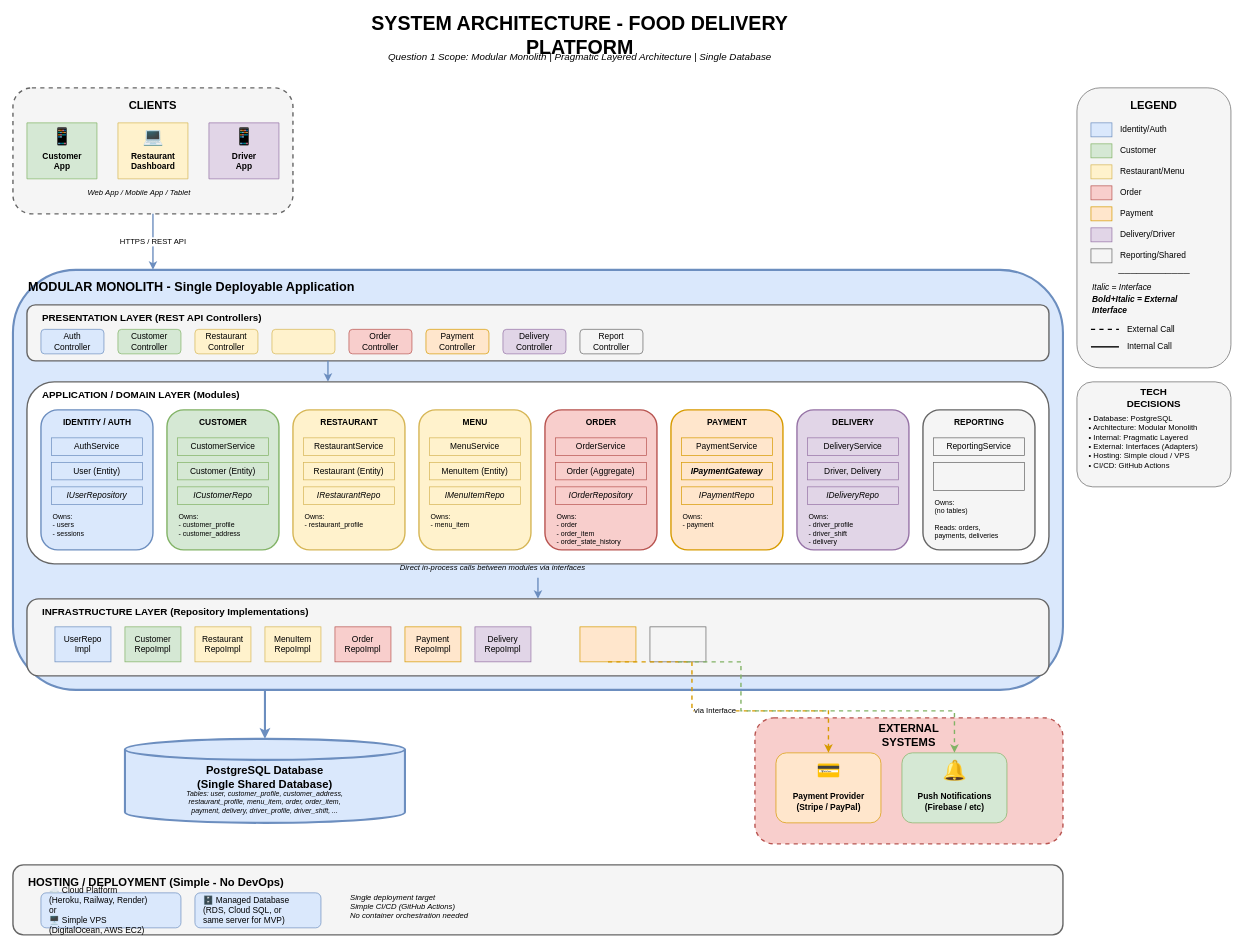
Some shapes in this 1243 by 948 pixel diagram are drawn without their labels. Here are the shapes that lost their labels. From the top down, the box of each, then its label:
(271, 329, 335, 354): Menu Controller
(933, 462, 1024, 490): Reads from other modules
(579, 626, 636, 662): Stripe Adapter
(649, 626, 706, 662): Push Notif
